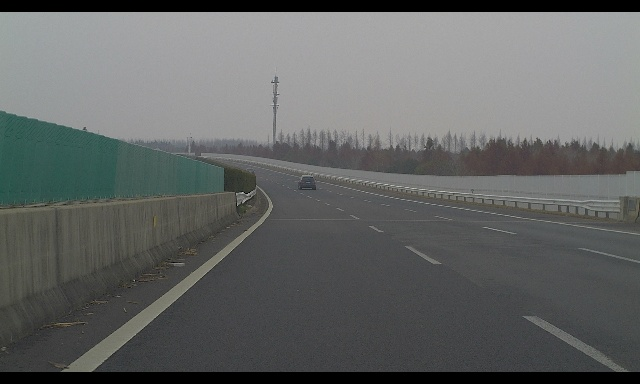car: (297, 175, 316, 190), (246, 168, 255, 176)
